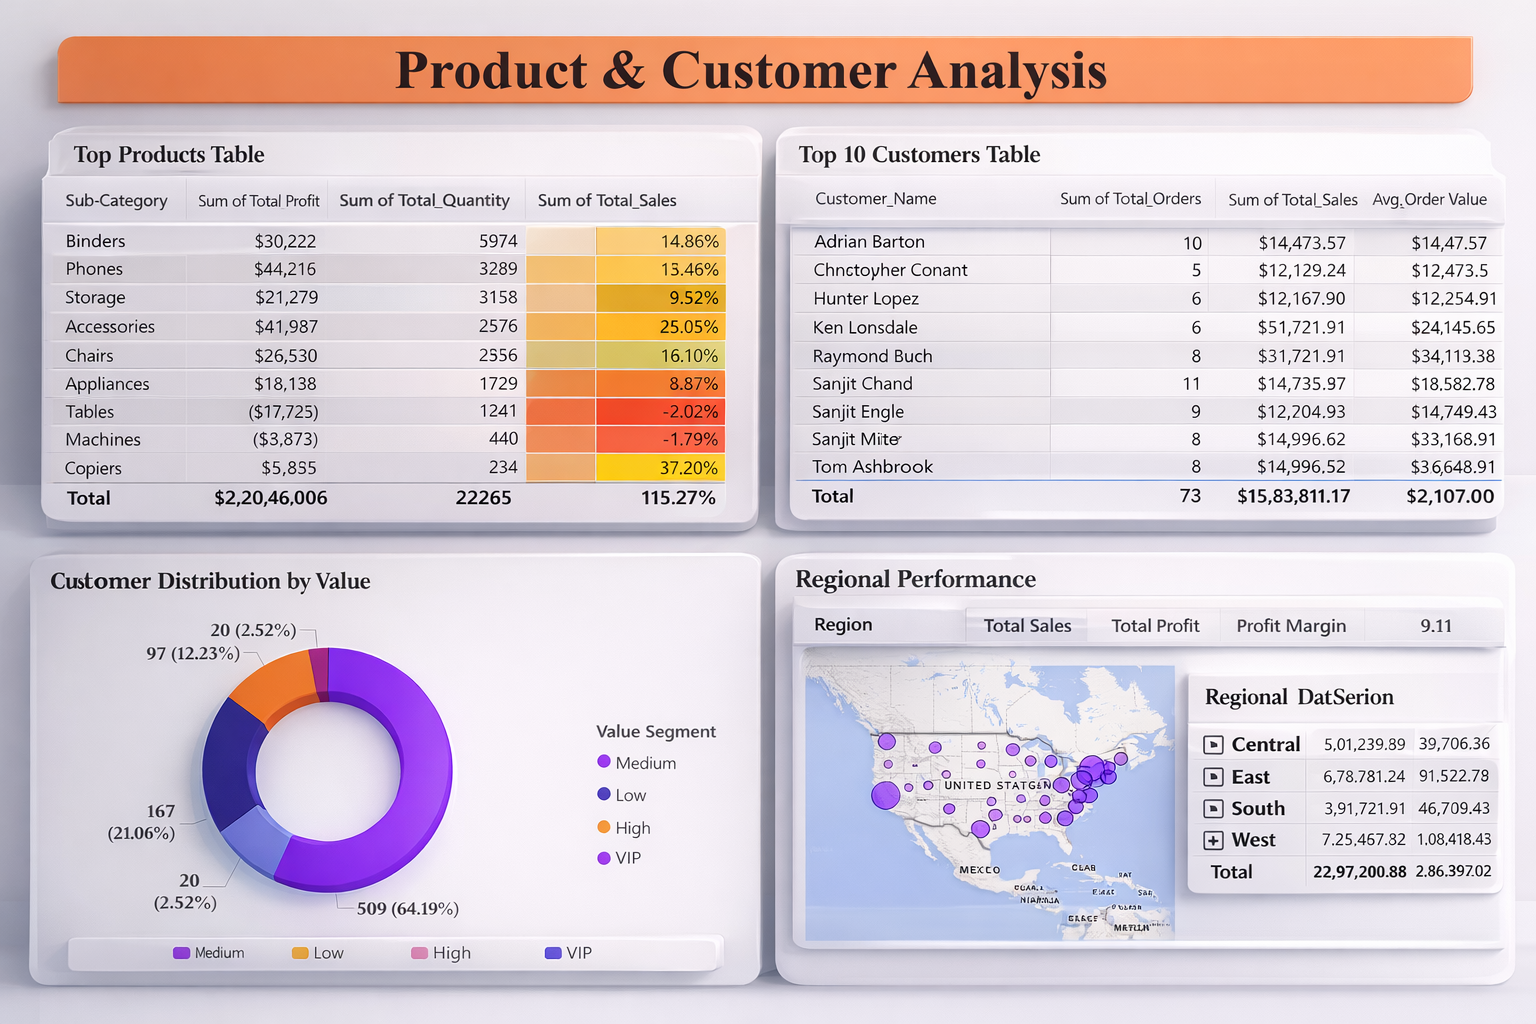

Layout of this report page (visuals, bound fields, positions):
{"tool":"powerbi","page":{"name":"Product & Customer  Analysis","canvas":[1280,720],"ordinal":1},"visuals":[{"type":"tableEx","title":"Top Products Table","fields":{"Values":["product_summary.Sub-Category","Sum(product_summary.Total_Profit)","Sum(product_summary.Total_Quantity)","Sum(product_summary.Total_Sales)","Sum(product_summary.Profit_Margin)"]},"box":[0,77.1,641.4,304.3],"z":0},{"type":"donutChart","title":"Customer Distribution by Value","fields":{"Y":["CountNonNull(customer_summary.Customer ID)"],"Category":["customer_summary.Value_Segment"]},"box":[0,381.4,641.4,338.6],"z":1000},{"type":"tableEx","title":"Top 10 Customers Table","fields":{"Values":["customer_summary.Customer_Name","Sum(customer_summary.Total_Orders)","Sum(customer_summary.Total_Sales)","customer_summary.Avg_Order_Value"]},"box":[661.4,78.6,618.6,304.3],"z":2000},{"type":"barChart","title":"Sales Breakdown by Category","fields":{"Category":["product_summary.Category"],"Y":["Sum(product_summary.Total_Sales)"],"Series":["product_summary.Sub-Category"]},"box":[661.4,382.9,618.6,337.1],"z":3000},{"type":"textbox","title":"Product & Customer Analysis","box":[0,0,1280,78.6],"z":4000}]}

Visuals, with their boxes on the page's 1280x720 design canvas (x1, y1, x2, y2). These are canvas units, not pixel positions in the 1536x1024 screenshot, which may show the page scaled, cropped or inside an application window:
"Top Products Table" tableEx: [0, 77, 641, 381]
"Customer Distribution by Value" donutChart: [0, 381, 641, 720]
"Top 10 Customers Table" tableEx: [661, 79, 1280, 383]
"Sales Breakdown by Category" barChart: [661, 383, 1280, 720]
"Product & Customer Analysis" textbox: [0, 0, 1280, 79]
